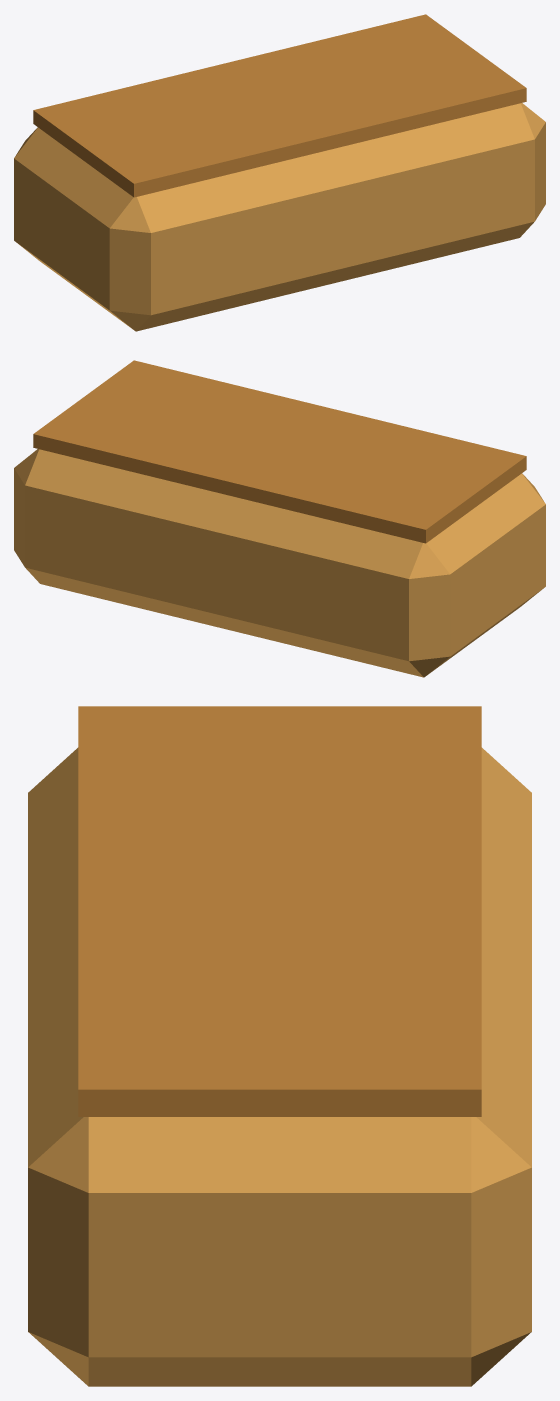
Rendered from rusk.fbx.
3 renders of one model, top to bottom at view 1: azimuth 30°, elevation 25°; view 2: azimuth 150°, elevation 25°; view 3: azimuth 270°, elevation 25°, orthographic. The views are drawn at different scales.
Parts seen in each view (by area): view 1: rusk; view 2: rusk; view 3: rusk.
Part boxes in pixels (x1,y1,x2,y2): rusk: (14,14,545,331); rusk: (14,360,545,677); rusk: (28,706,531,1386).
Size of the model in its own units: 0.1 by 0.033 by 0.05.
